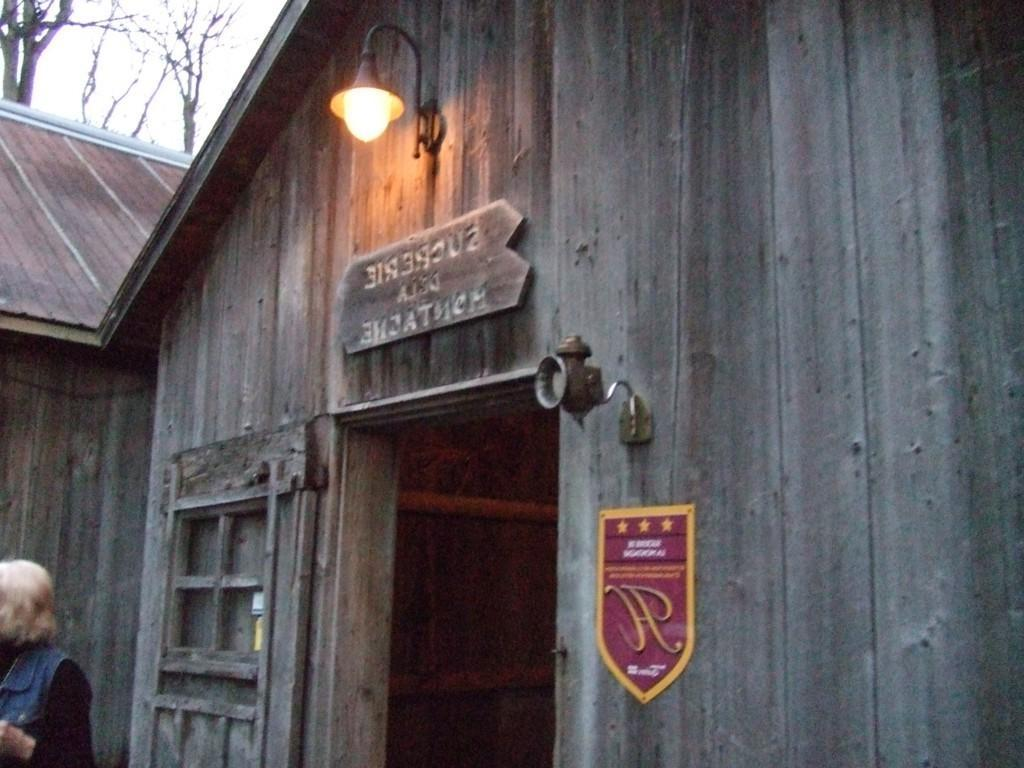door: (154, 449, 306, 768)
